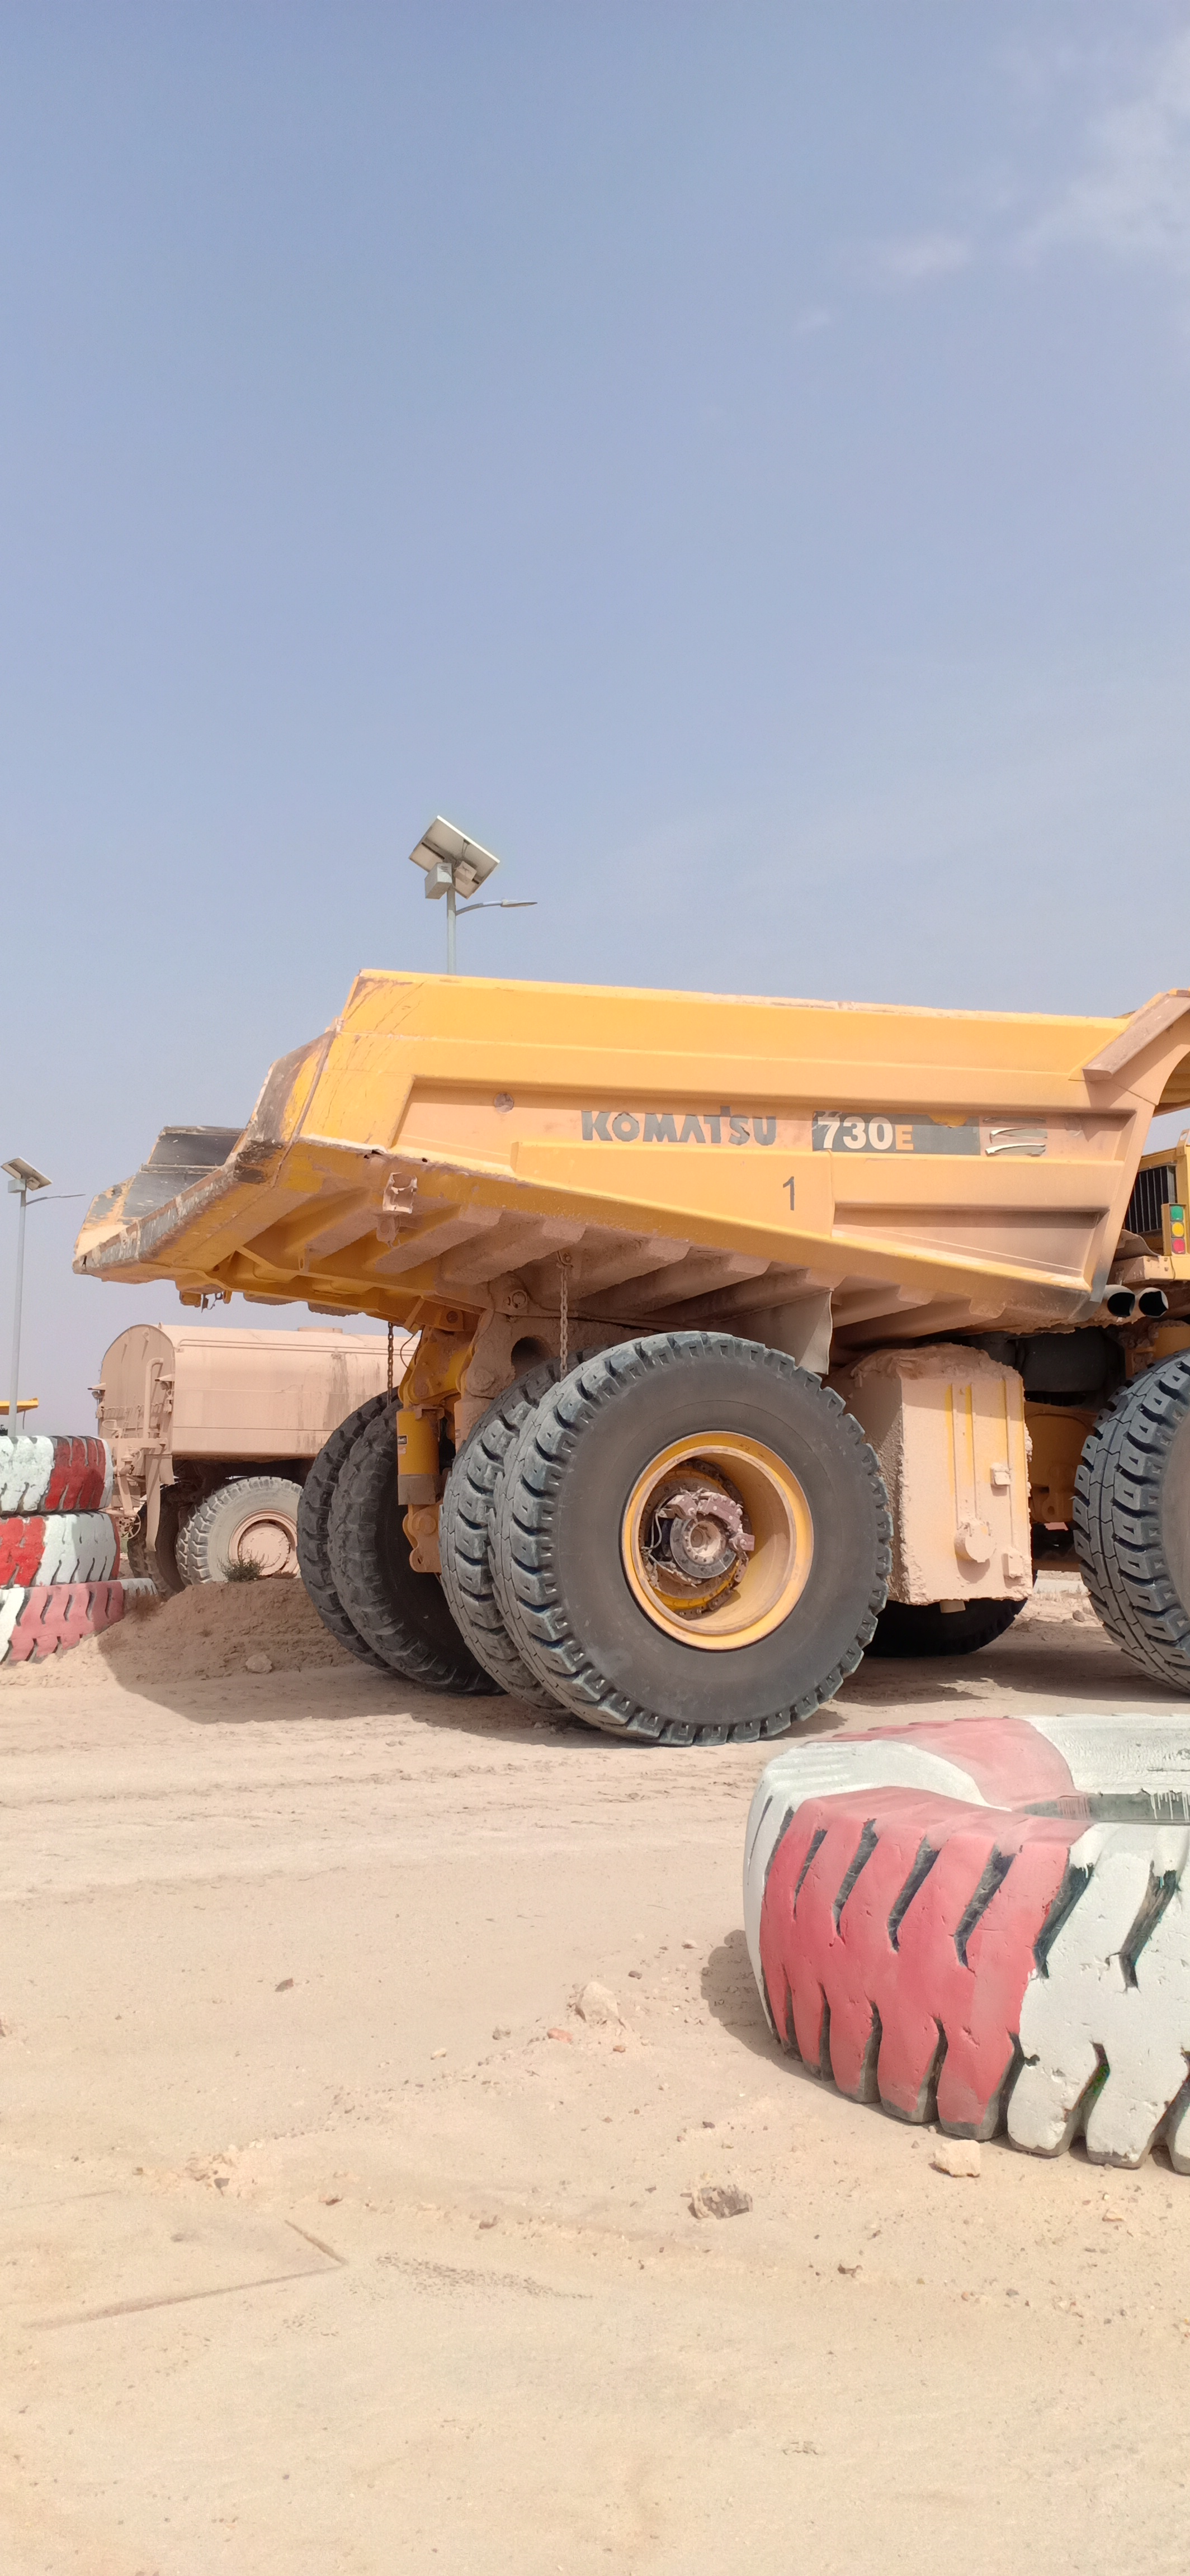camion: (81, 973, 1190, 1761)
